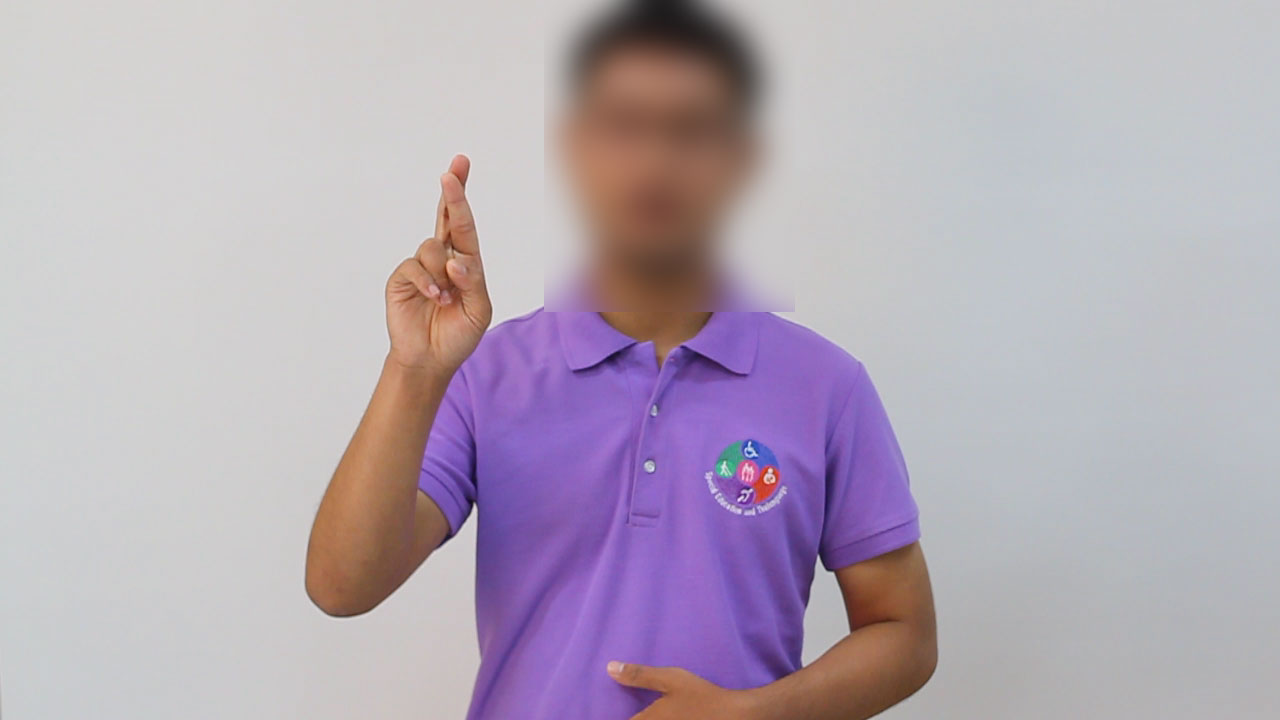rao: (370, 151, 503, 403)
